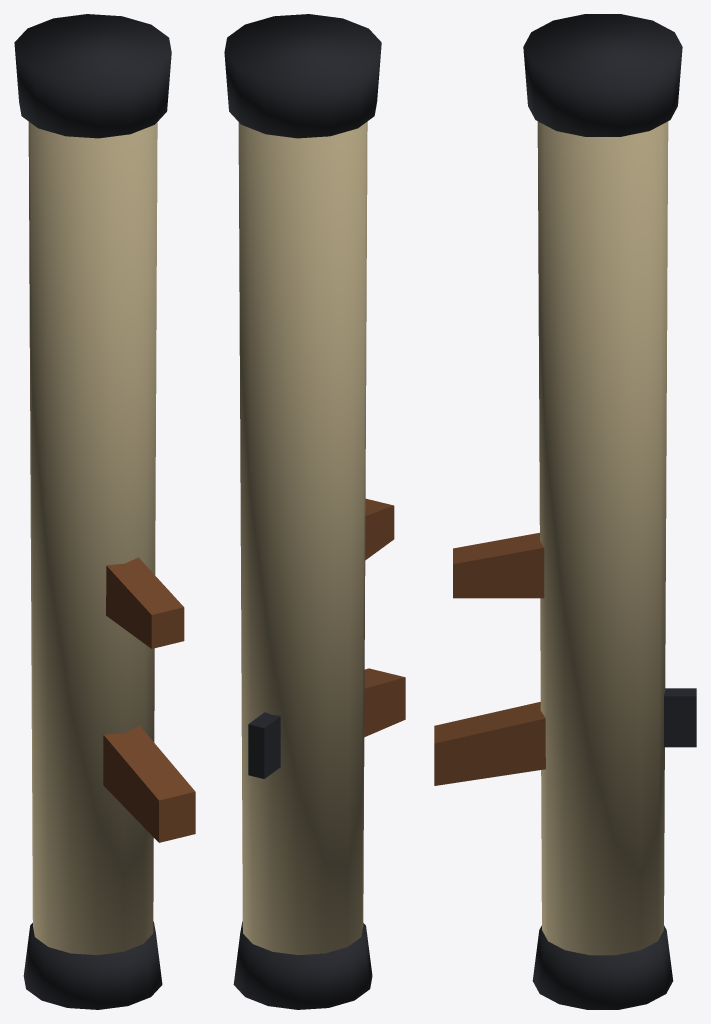
File: pew_matic_horn.glb
The picture shows the model from 3 angles, left to right: view 1: azimuth 30°, elevation 25°; view 2: azimuth 150°, elevation 25°; view 3: azimuth 270°, elevation 25°; orthographic projection.
Visible parts, largest first — view 1: pew_matic_horn_v0; view 2: pew_matic_horn_v0; view 3: pew_matic_horn_v0.
Part boxes in pixels (x1,y1,x2,y2): pew_matic_horn_v0: [14, 14, 195, 1009]; pew_matic_horn_v0: [224, 14, 405, 1009]; pew_matic_horn_v0: [434, 14, 696, 1009].
Size of the model in its own units: 0.1657 by 1.1 by 0.28.
